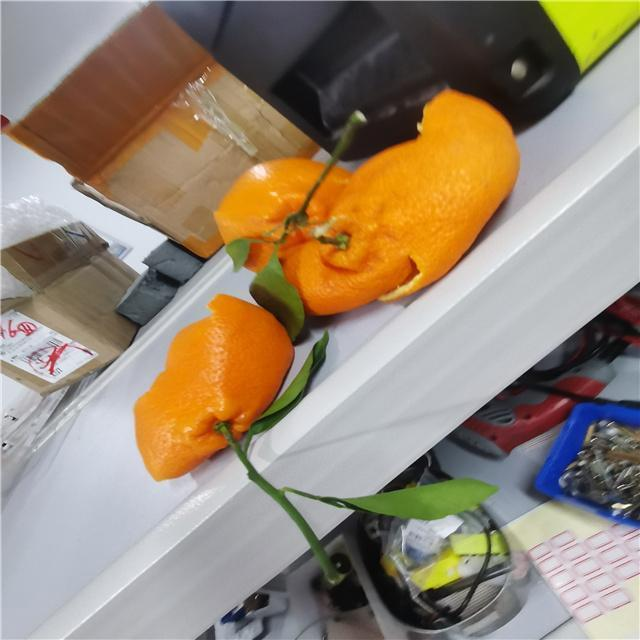orange peel: (213, 86, 514, 314), (130, 290, 296, 486)
